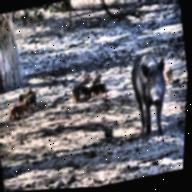boar: (105, 35, 178, 140)
